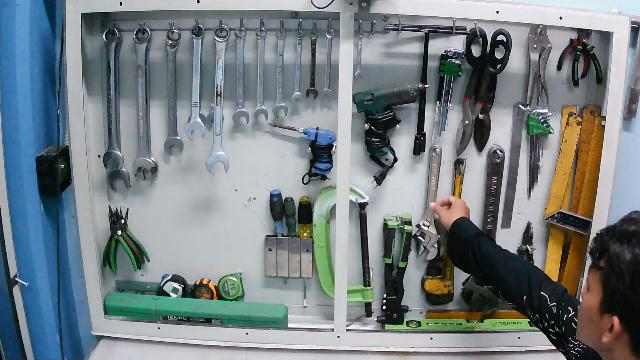kunci_inggris: (412, 143, 443, 263)
